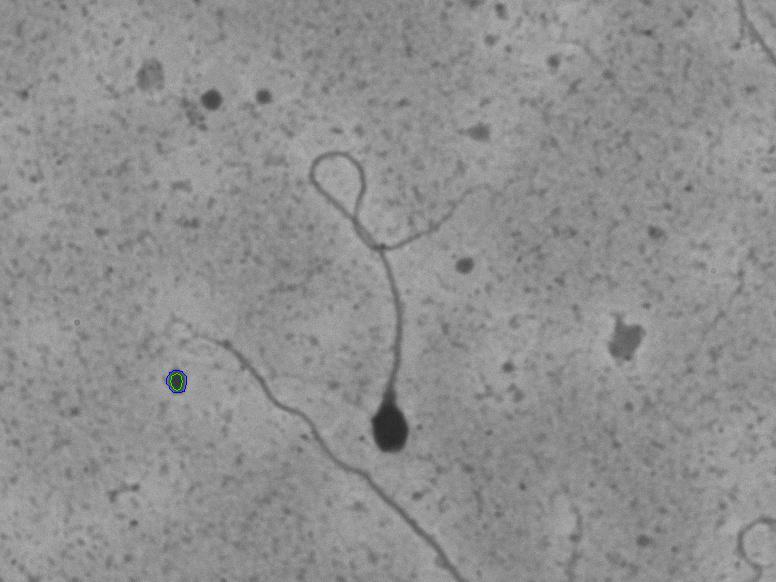Normal: (299, 109, 514, 462)
